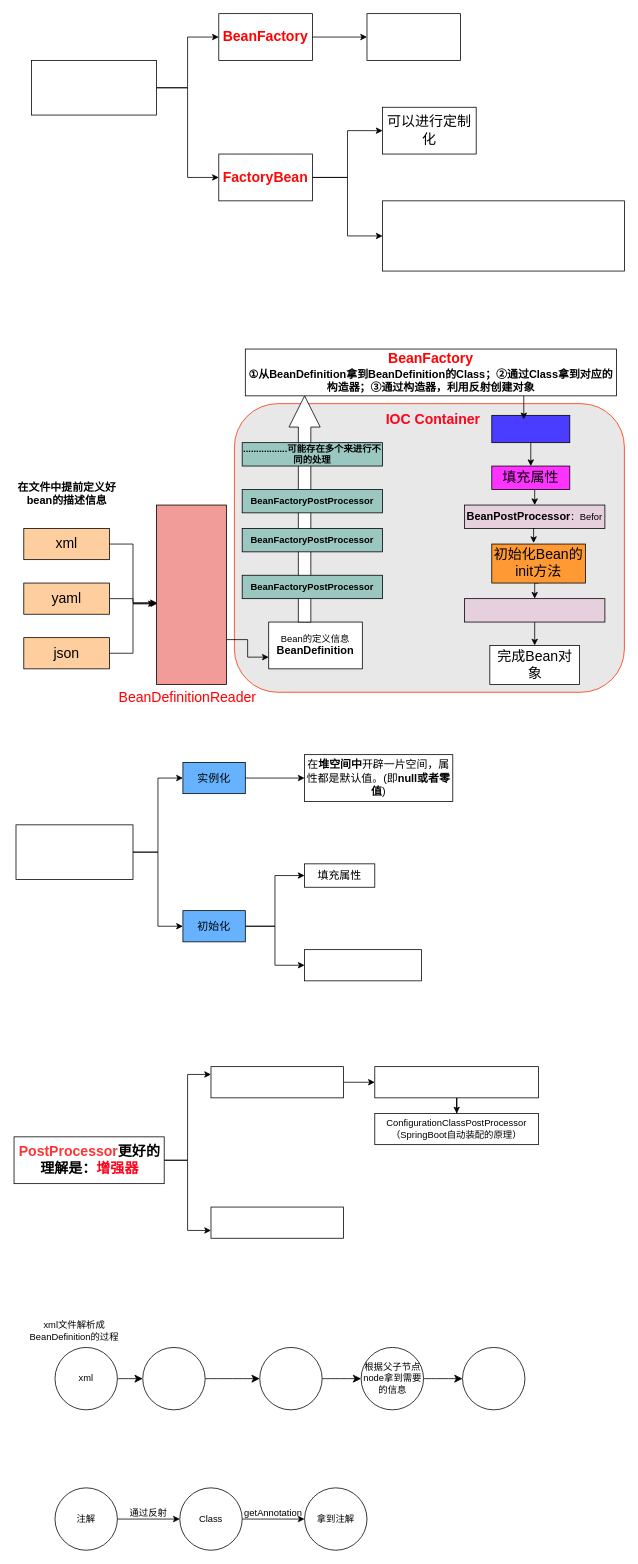
Image size: 638x1564. Some labels were removed from this diagram. Here are the shapes that lost their labels. From the top down, the centre of each, then its label:
At (x=413, y=36): "是一个标准化的流程".
At (x=93, y=87): "两者都可以用来创建bean，但是有区别".
At (x=503, y=235): "isSingleton：判断对象是不是单例的 getObjectType：获取对象的类型 getObject：用户可以按照自己的行为来创建对象".
At (x=530, y=429): "实例化bean".
At (x=191, y=594): "抽象接口 定义读取配置文件的规范 （所有需要针对不同类型解析的方法都需要实现这个接口，这个接口是一个规范）".
At (x=534, y=610): "BeanPostProcessor ：After".
At (x=74, y=851): "一个对象的创建 在spring角度分为两部分".
At (x=363, y=965): "调用Bean的初始化方法（init_method）".
At (x=277, y=1082): "BeanFactoryPostProcessor （ 针对的对象 ：BeanFactory）".
At (x=456, y=1082): "BeanDefinitionRegistryPostProcessor".
At (x=277, y=1222): "BeanPostProcessor （ 针对的对象 ：bean对象）".
At (x=173, y=1378): "io流".
At (x=290, y=1378): "SAX dom4j 解析得到document".
At (x=493, y=1378): "document".
